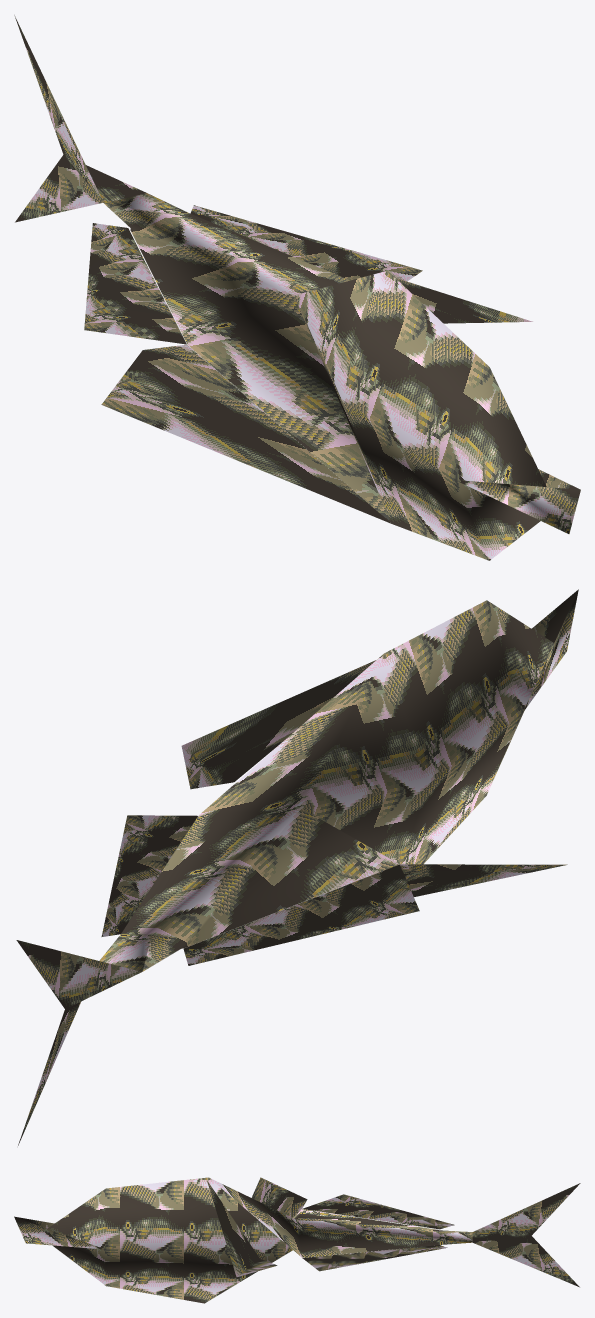
The model's file is 4813fish23_r.gltf.
3 renders of one model, top to bottom at view 1: azimuth 30°, elevation 25°; view 2: azimuth 150°, elevation 25°; view 3: azimuth 270°, elevation 25°, orthographic. The views are drawn at different scales.
Parts seen in each view (by area): view 1: 4813fish23_r; view 2: 4813fish23_r; view 3: 4813fish23_r.
Part boxes in pixels (bbox=[...]): 4813fish23_r: bbox=[14, 15, 580, 560]; 4813fish23_r: bbox=[16, 589, 578, 1145]; 4813fish23_r: bbox=[14, 1177, 580, 1303].
Bounding box in the file's own units: 0.4192 × 0.2456 × 1.
Materials: 1 (1 with a texture image).
